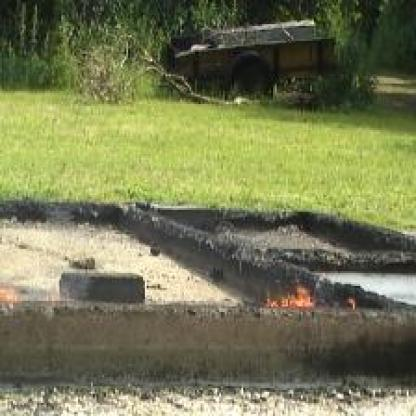fire: (272, 280, 315, 310), (0, 280, 22, 314), (343, 292, 360, 313)
